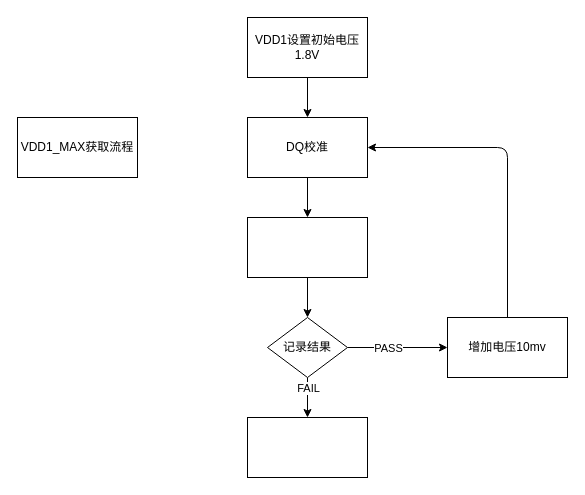
Image size: 585x495. Some labels were removed from this diagram. Here are the shapes that lost their labels. From the top down, the box of each, then its label:
(246, 216, 368, 278): 运行读写时序
(246, 416, 368, 478): 停止运行并打印上一次PASS结果
